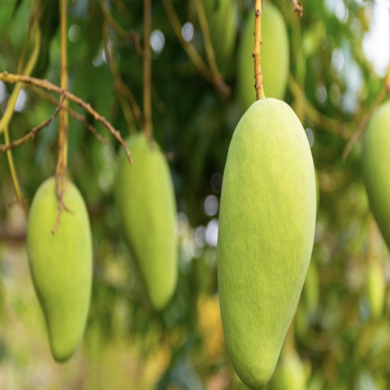mango: (201, 89, 334, 390), (106, 127, 186, 323), (18, 170, 95, 368)
